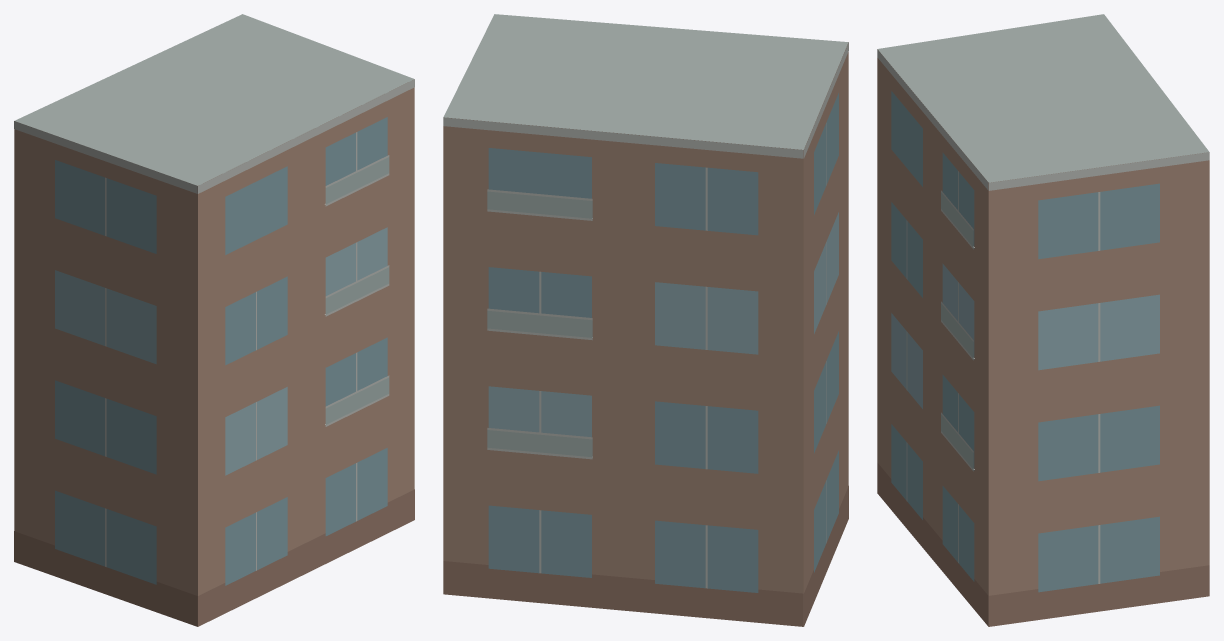
Rendered from survey-upis-32457938.glb.
The picture shows the model from 3 angles, left to right: view 1: azimuth 30°, elevation 25°; view 2: azimuth 150°, elevation 25°; view 3: azimuth 270°, elevation 25°; orthographic projection. The views are drawn at different scales.
Visible parts, largest first — view 1: survey-upis-32457938.tmp; view 2: survey-upis-32457938.tmp; view 3: survey-upis-32457938.tmp.
Part boxes in pixels (x1,y1,x2,y2): survey-upis-32457938.tmp: (14,14,414,626); survey-upis-32457938.tmp: (443,14,848,626); survey-upis-32457938.tmp: (877,14,1209,626).
Bounding box in the file's own units: 10.76 × 13.2 × 8.96.
